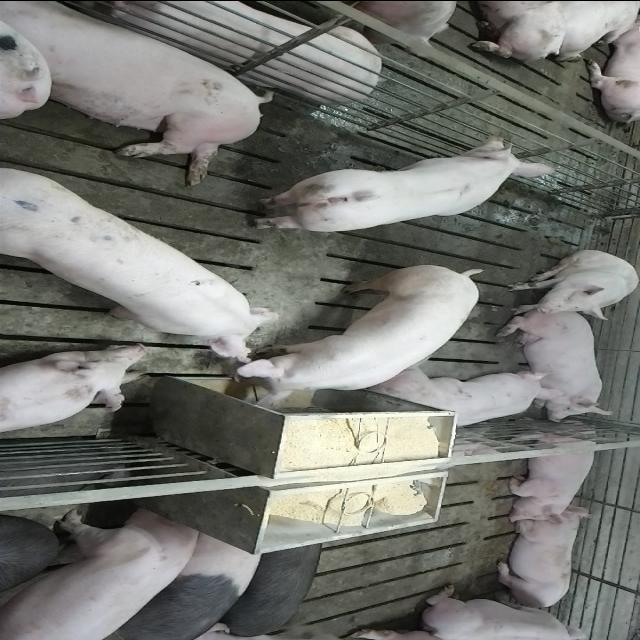Lateral_lying: (0, 3, 273, 186), (70, 0, 383, 103)
Sitting: (503, 250, 638, 318)
Standing: (6, 162, 286, 365), (223, 262, 480, 406), (240, 134, 560, 234), (0, 504, 204, 638), (103, 529, 264, 638), (218, 542, 326, 632)
Sternal_lying: (0, 347, 150, 437), (501, 312, 615, 422), (366, 370, 554, 430), (417, 584, 601, 638), (491, 508, 588, 610), (502, 425, 602, 523)
